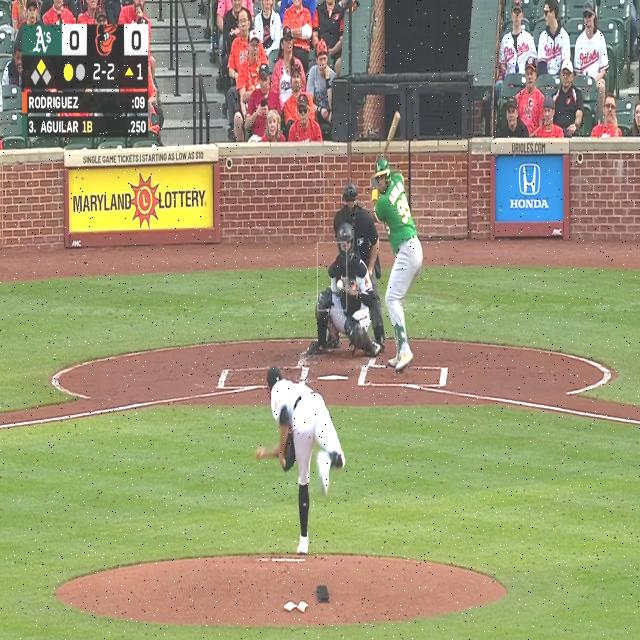baseball: (337, 280, 342, 290)
